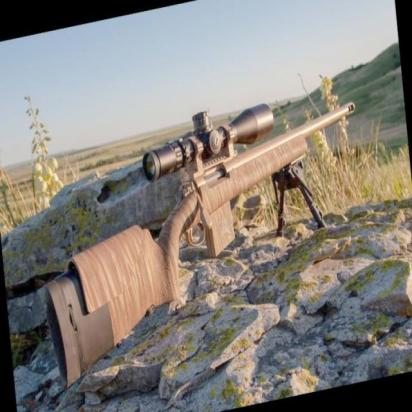Gun: (41, 99, 357, 384)
